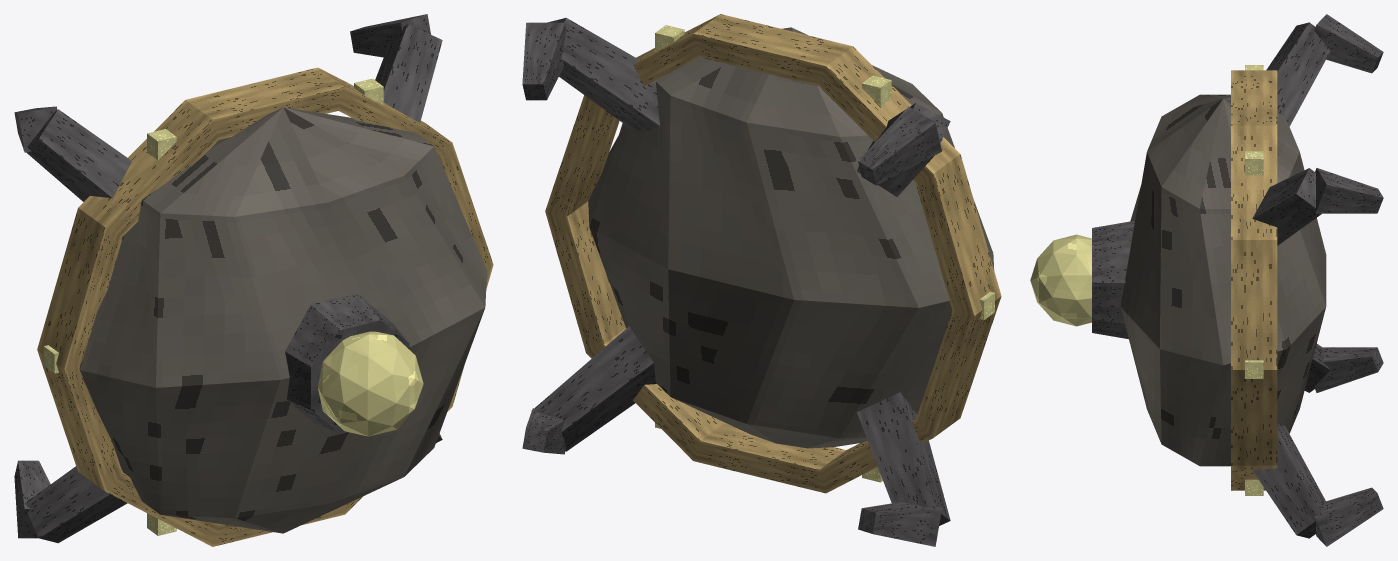
Rendered from proj_limpet.gltf.
3 views of the same model, side by side, from view 1: azimuth 30°, elevation 25°; view 2: azimuth 150°, elevation 25°; view 3: azimuth 270°, elevation 25° (orthographic). The views are drawn at different scales.
Parts seen in each view (by area): view 1: body, glow; view 2: body, glow; view 3: body, glow.
Part boxes in pixels (x1,y1,x2,y2): body: (14, 14, 493, 546); glow: (43, 78, 423, 535); body: (522, 14, 1001, 546); glow: (655, 25, 994, 482); body: (1092, 14, 1383, 546); glow: (1030, 65, 1263, 495).
Bounding box in the file's own units: 0.276 × 0.2647 × 0.2288.
Materials: 2 (2 with a texture image).
